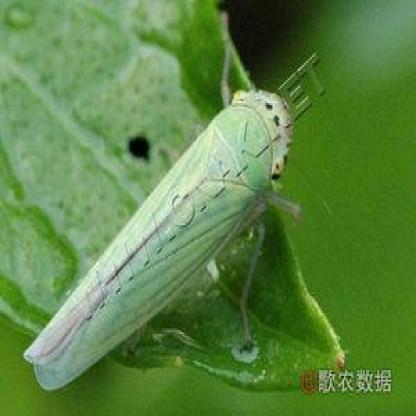Green-Leafhopper: (21, 6, 293, 400)
